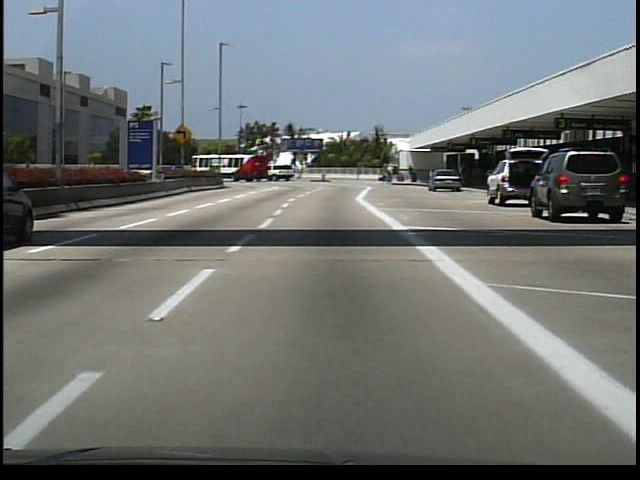person: (456, 158, 472, 188), (385, 161, 395, 185)
